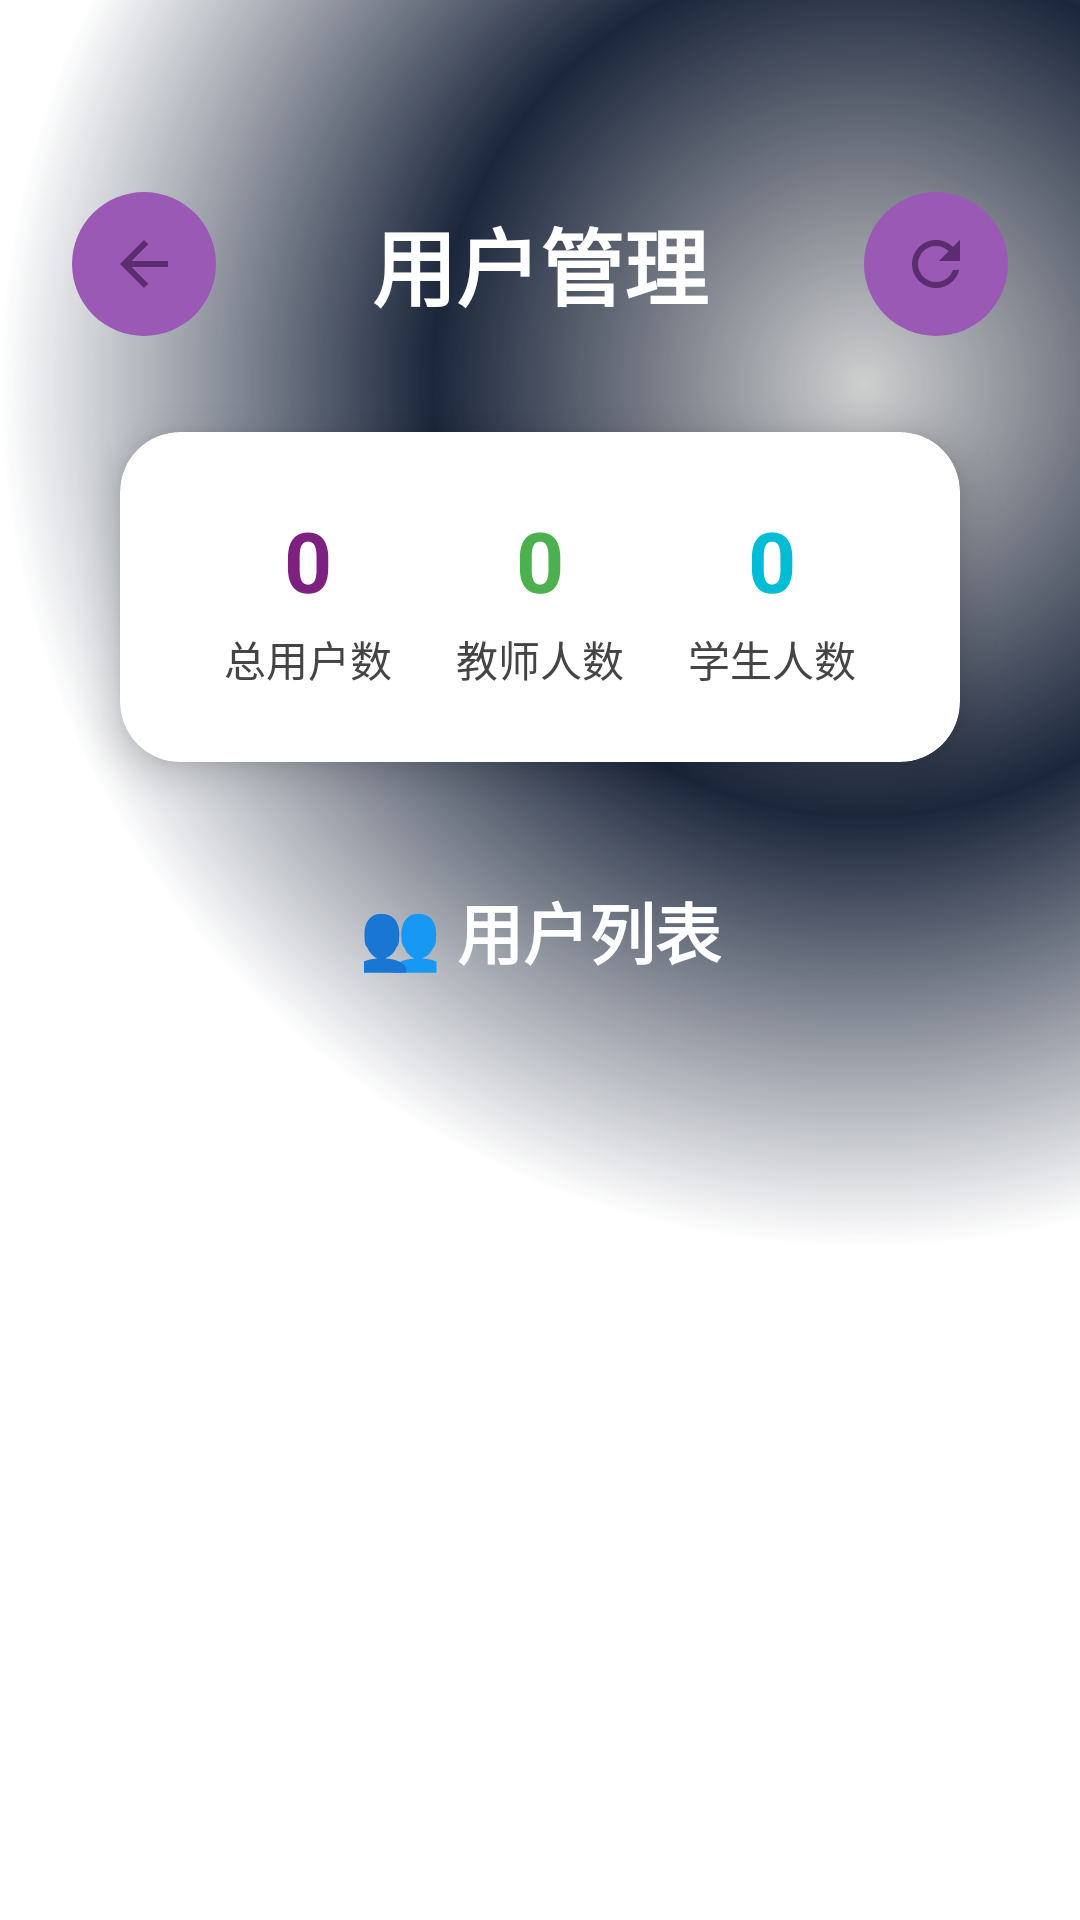

Icons on this 1080x1920 Android screen, each with the point to tap as point (x, y):
刷新: point (936, 264)
返回: point (144, 264)
